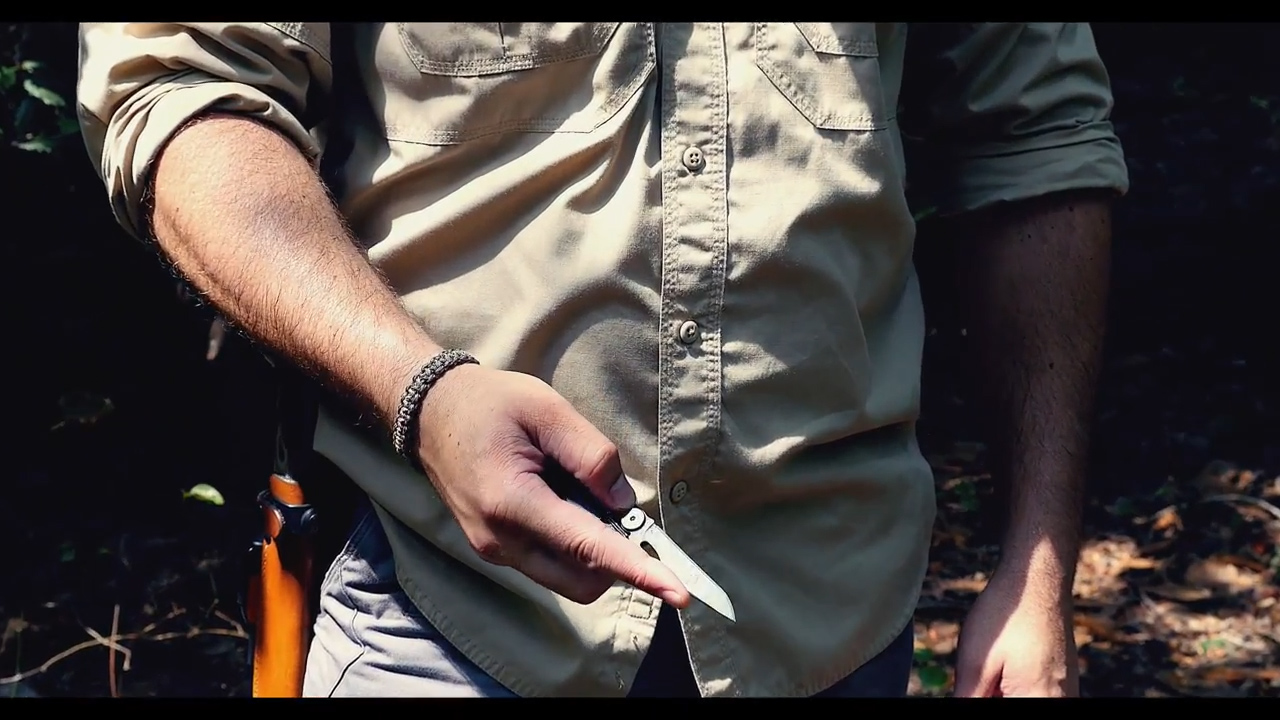knife: (449, 413, 747, 633)
